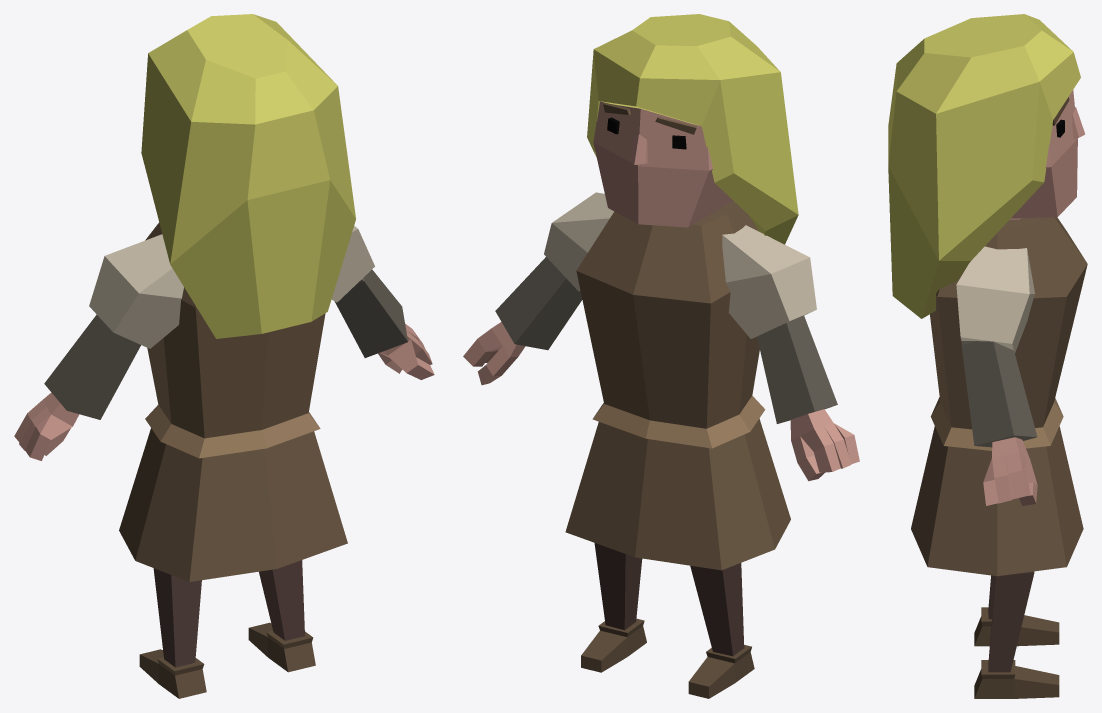
File: femme-1.glb
The picture shows the model from 3 angles, left to right: view 1: azimuth 30°, elevation 25°; view 2: azimuth 150°, elevation 25°; view 3: azimuth 270°, elevation 25°; orthographic projection.
Parts seen in each view (by area): view 1: Object_2; view 2: Object_2; view 3: Object_2.
Boxes of the visible parts, x1,y1,x2,y2 form: Object_2: [14, 14, 434, 698]; Object_2: [463, 14, 859, 698]; Object_2: [888, 14, 1087, 698].
Size of the model in its own units: 1.1 by 1.69 by 0.4826.
1 material, 1 textured.
